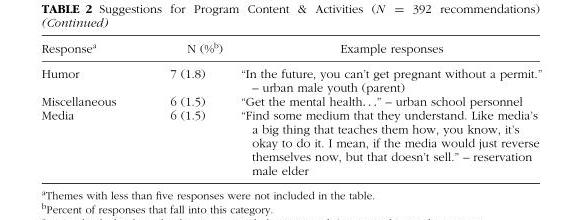table: (40, 40, 541, 177)
table column: (231, 40, 541, 177), (40, 40, 142, 177), (142, 40, 231, 177)
table column header: (40, 40, 541, 60)
table row: (40, 107, 541, 177), (40, 60, 541, 94), (40, 40, 541, 60), (40, 94, 541, 107)
